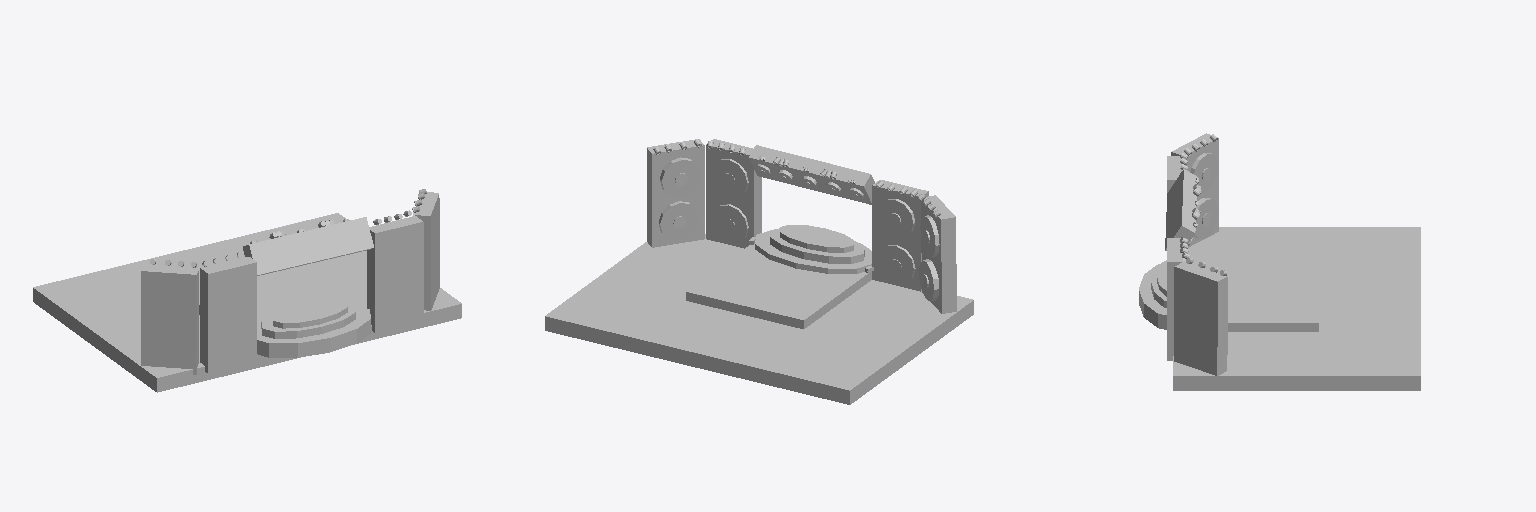
File: stage.obj
The picture shows the model from 3 angles: view 1: azimuth 30°, elevation 25°; view 2: azimuth 150°, elevation 25°; view 3: azimuth 270°, elevation 25°; orthographic projection.
Parts seen in each view (by area): view 1: group[number redacted], group[number redacted], group[number redacted], group[number redacted], group[number redacted], group[number redacted], group[number redacted], group[number redacted], group[number redacted], group[number redacted]; view 2: group[number redacted], group[number redacted], group[number redacted], group[number redacted], group[number redacted], group[number redacted], group[number redacted], group[number redacted], group[number redacted], group[number redacted], group[number redacted], group[number redacted] (+6 smaller); view 3: group[number redacted], group[number redacted], group[number redacted], group[number redacted], group[number redacted], group[number redacted], group[number redacted], group[number redacted], group[number redacted].
Boxes of the visible parts, x1,y1,x2,y2 form: group[number redacted]: [33, 213, 461, 392]; group[number redacted]: [200, 257, 256, 373]; group[number redacted]: [141, 264, 198, 374]; group[number redacted]: [367, 216, 423, 332]; group[number redacted]: [243, 217, 373, 275]; group[number redacted]: [199, 266, 356, 322]; group[number redacted]: [257, 304, 370, 357]; group[number redacted]: [415, 192, 439, 310]; group[number redacted]: [273, 300, 347, 328]; group[number redacted]: [261, 304, 355, 338]; group[number redacted]: [545, 234, 973, 404]; group[number redacted]: [686, 244, 871, 328]; group[number redacted]: [647, 139, 704, 247]; group[number redacted]: [706, 139, 761, 248]; group[number redacted]: [749, 145, 874, 204]; group[number redacted]: [872, 180, 928, 291]; group[number redacted]: [921, 195, 956, 313]; group[number redacted]: [755, 229, 871, 273]; group[number redacted]: [780, 225, 853, 252]; group[number redacted]: [770, 228, 864, 263]; group[number redacted]: [660, 157, 700, 197]; group[number redacted]: [659, 201, 698, 240]; group[number redacted]: [1173, 227, 1420, 390]; group[number redacted]: [1205, 266, 1318, 331]; group[number redacted]: [1174, 261, 1227, 375]; group[number redacted]: [1165, 169, 1197, 250]; group[number redacted]: [1167, 238, 1182, 360]; group[number redacted]: [1171, 133, 1218, 247]; group[number redacted]: [1139, 263, 1197, 329]; group[number redacted]: [1190, 153, 1218, 192]; group[number redacted]: [1194, 198, 1218, 238].
Bounding box in the file's own units: 1.76 × 0.6637 × 1.41.